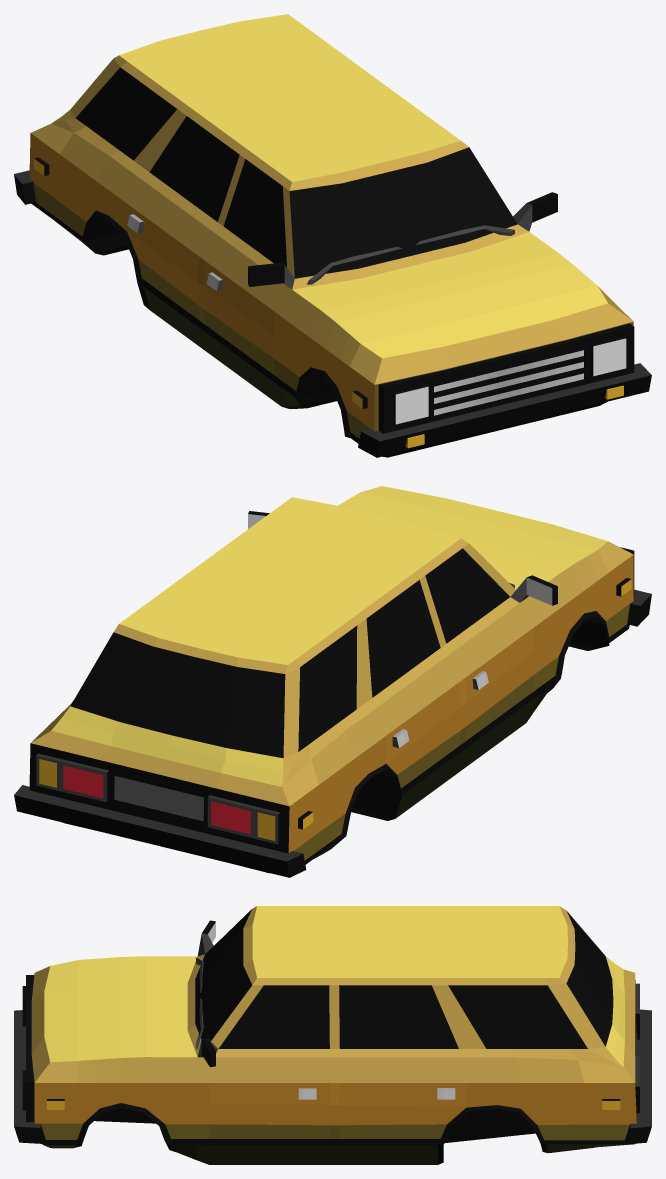
The model's file is StationWagon.004.fbx.
3 views of the same model, one above another, from view 1: azimuth 30°, elevation 25°; view 2: azimuth 150°, elevation 25°; view 3: azimuth 270°, elevation 25° (orthographic). The views are drawn at different scales.
Parts seen in each view (by area): view 1: StationWagon.004; view 2: StationWagon.004; view 3: StationWagon.004.
Part boxes in pixels (<box>): StationWagon.004: <box>14,14,651,457</box>; StationWagon.004: <box>14,486,651,877</box>; StationWagon.004: <box>14,906,651,1164</box>.
Size of the model in its own units: 1.84 by 1.14 by 3.78.
